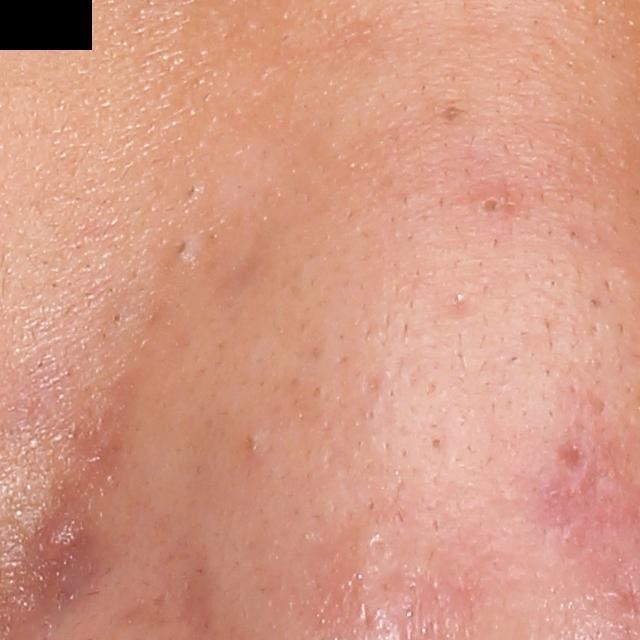atrophic_scar: (554, 438, 587, 476)
comedo: (477, 190, 502, 215), (239, 428, 262, 455), (170, 234, 192, 260), (449, 287, 466, 304), (112, 312, 125, 326)
